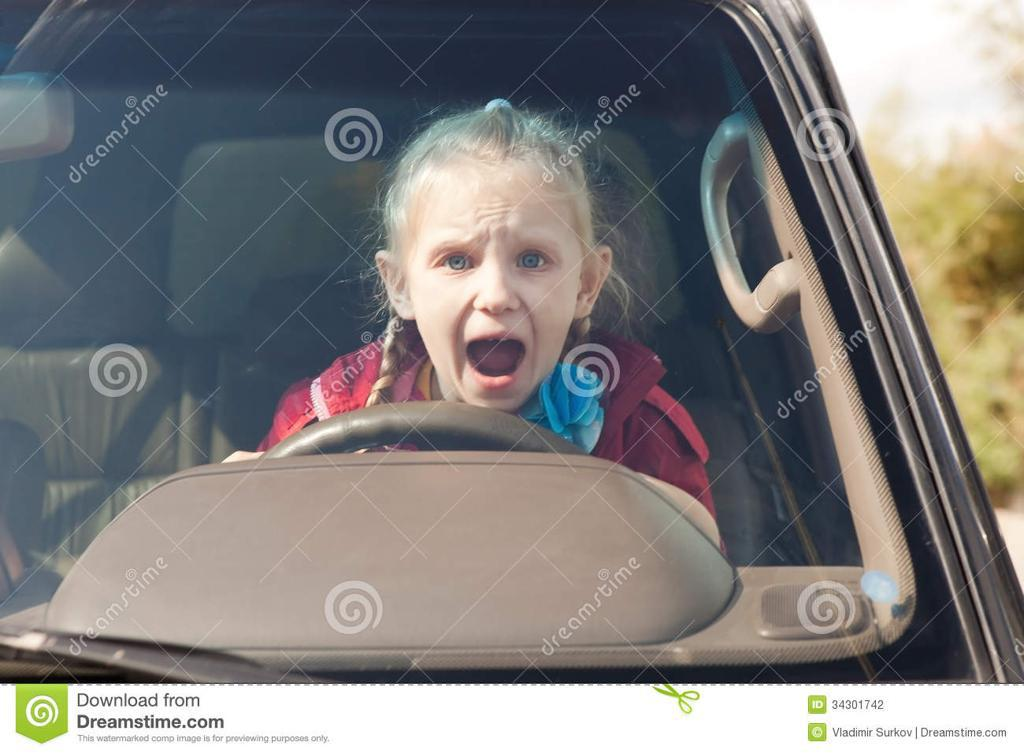face: (407, 171, 577, 407)
